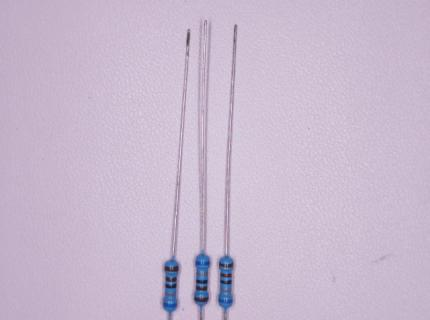Black band: (220, 279, 232, 285), (196, 279, 208, 284), (165, 284, 177, 289)
Blue band: (163, 302, 178, 308), (195, 261, 210, 266), (218, 298, 233, 303)
Brown band: (164, 266, 179, 272), (194, 296, 209, 302), (219, 262, 233, 268), (165, 277, 177, 282), (196, 286, 208, 291), (220, 273, 232, 277)
Grey band: (220, 288, 232, 293), (196, 272, 208, 276), (165, 292, 176, 296)
